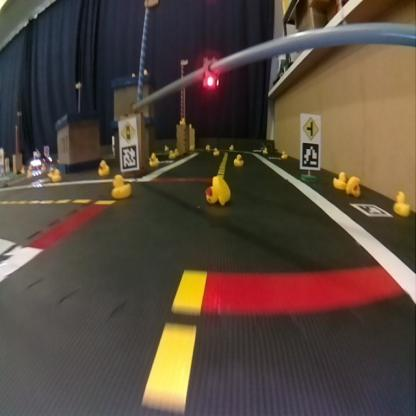Duckie: (206, 176, 230, 204), (112, 173, 130, 197), (393, 191, 408, 215), (346, 175, 359, 195), (333, 171, 346, 189), (98, 162, 109, 175), (51, 169, 60, 181), (233, 154, 242, 164), (149, 157, 157, 165), (212, 146, 218, 154), (281, 150, 286, 157)
Intersection sign: (301, 116, 318, 142)
QR code: (350, 203, 391, 216), (300, 141, 319, 168), (122, 144, 136, 169)
Signal sign: (119, 121, 136, 142)
Traffic light: (204, 58, 218, 88)
